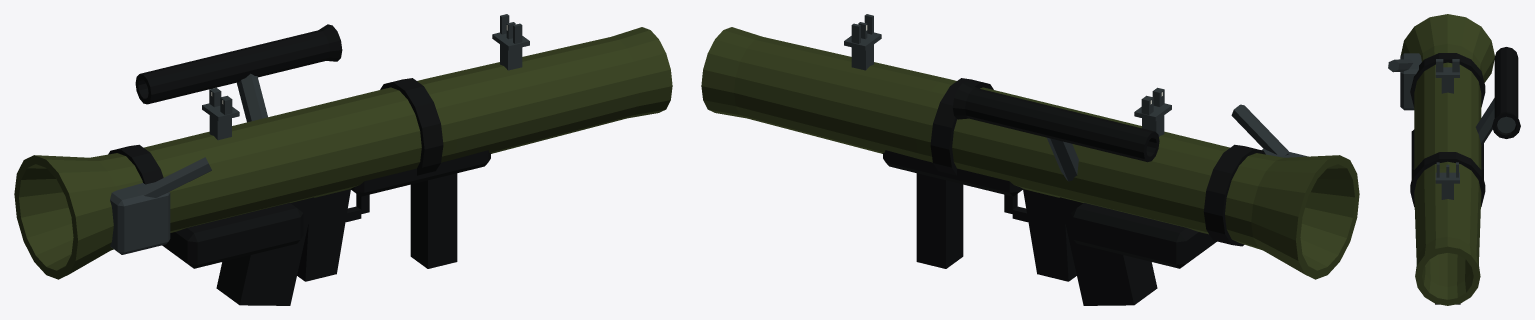
Rendered from CE_Gun_CarlGustaf.obj.
The picture shows the model from 3 angles, left to right: view 1: azimuth 30°, elevation 25°; view 2: azimuth 150°, elevation 25°; view 3: azimuth 270°, elevation 25°; orthographic projection. The views are drawn at different scales.
Parts seen in each view (by area): view 1: GHTek_CarlGustaf_reused_m7, GHTek_CarlGustaf_reused_m6, GHTek_CarlGustaf_reused_m5, Pistol_grip, Launcher_forward_grip, GHTek_CarlGustaf_reused_m0, GHTek_CarlGustaf_reused_m10, GHTek_CarlGustaf_reused_m9, GHTek_CarlGustaf_reused_m2, GHTek_CarlGustaf_reused_m1, GHTek_CarlGustaf_reused_m3, GHTek_CarlGustaf_reused_m8 (+2 smaller); view 2: GHTek_CarlGustaf_reused_m7, GHTek_CarlGustaf_reused_m6, GHTek_CarlGustaf_reused_m5, Pistol_grip, Launcher_forward_grip, GHTek_CarlGustaf_reused_m10, GHTek_CarlGustaf_reused_m8, GHTek_CarlGustaf_reused_m9, GHTek_CarlGustaf_reused_m2, GHTek_CarlGustaf_reused_m1, GHTek_CarlGustaf_reused_m3, R3_Front_SeatedStem; view 3: GHTek_CarlGustaf_reused_m7, GHTek_CarlGustaf_reused_m6, GHTek_CarlGustaf_reused_m9, GHTek_CarlGustaf_reused_m8, GHTek_CarlGustaf_reused_m0, GHTek_CarlGustaf_reused_m3, GHTek_CarlGustaf_reused_m1, GHTek_CarlGustaf_reused_m5, R3_Front_Foot, GHTek_CarlGustaf_reused_m4, R3_Front_SeatedStem, R3_Rear_Foot (+3 smaller).
Part boxes in pixels (box(x1,y1,x2,y2)): GHTek_CarlGustaf_reused_m7: box(14, 27, 672, 279); GHTek_CarlGustaf_reused_m6: box(135, 24, 342, 104); GHTek_CarlGustaf_reused_m5: box(162, 203, 303, 268); Pistol_grip: box(216, 197, 314, 305); Launcher_forward_grip: box(410, 173, 457, 268); GHTek_CarlGustaf_reused_m0: box(110, 182, 170, 254); GHTek_CarlGustaf_reused_m10: box(297, 189, 350, 281); GHTek_CarlGustaf_reused_m9: box(380, 78, 443, 175); GHTek_CarlGustaf_reused_m2: box(351, 150, 490, 196); GHTek_CarlGustaf_reused_m1: box(137, 157, 211, 197); GHTek_CarlGustaf_reused_m3: box(237, 73, 267, 122); GHTek_CarlGustaf_reused_m8: box(108, 144, 163, 184); GHTek_CarlGustaf_reused_m7: box(701, 27, 1359, 279); GHTek_CarlGustaf_reused_m6: box(952, 82, 1159, 162); GHTek_CarlGustaf_reused_m5: box(1070, 203, 1216, 268); Pistol_grip: box(1059, 197, 1157, 305); Launcher_forward_grip: box(916, 173, 963, 268); GHTek_CarlGustaf_reused_m10: box(1023, 189, 1076, 281); GHTek_CarlGustaf_reused_m8: box(1203, 144, 1265, 246); GHTek_CarlGustaf_reused_m9: box(930, 78, 993, 175); GHTek_CarlGustaf_reused_m2: box(883, 150, 1022, 196); GHTek_CarlGustaf_reused_m1: box(1231, 104, 1289, 155); GHTek_CarlGustaf_reused_m3: box(1047, 137, 1078, 181); R3_Front_SeatedStem: box(851, 44, 873, 70); GHTek_CarlGustaf_reused_m7: box(1400, 14, 1494, 305); GHTek_CarlGustaf_reused_m6: box(1492, 47, 1520, 138); GHTek_CarlGustaf_reused_m9: box(1410, 152, 1485, 206); GHTek_CarlGustaf_reused_m8: box(1410, 53, 1485, 107); GHTek_CarlGustaf_reused_m0: box(1400, 53, 1421, 110); GHTek_CarlGustaf_reused_m3: box(1475, 98, 1494, 146); GHTek_CarlGustaf_reused_m1: box(1388, 59, 1412, 72); GHTek_CarlGustaf_reused_m5: box(1411, 129, 1483, 178); R3_Front_Foot: box(1435, 172, 1459, 183); GHTek_CarlGustaf_reused_m4: box(1497, 116, 1515, 133); R3_Front_SeatedStem: box(1441, 183, 1453, 199); R3_Rear_Foot: box(1435, 67, 1459, 77).
Bounding box in the file's own units: 1.02 × 0.3554 × 0.2611.
